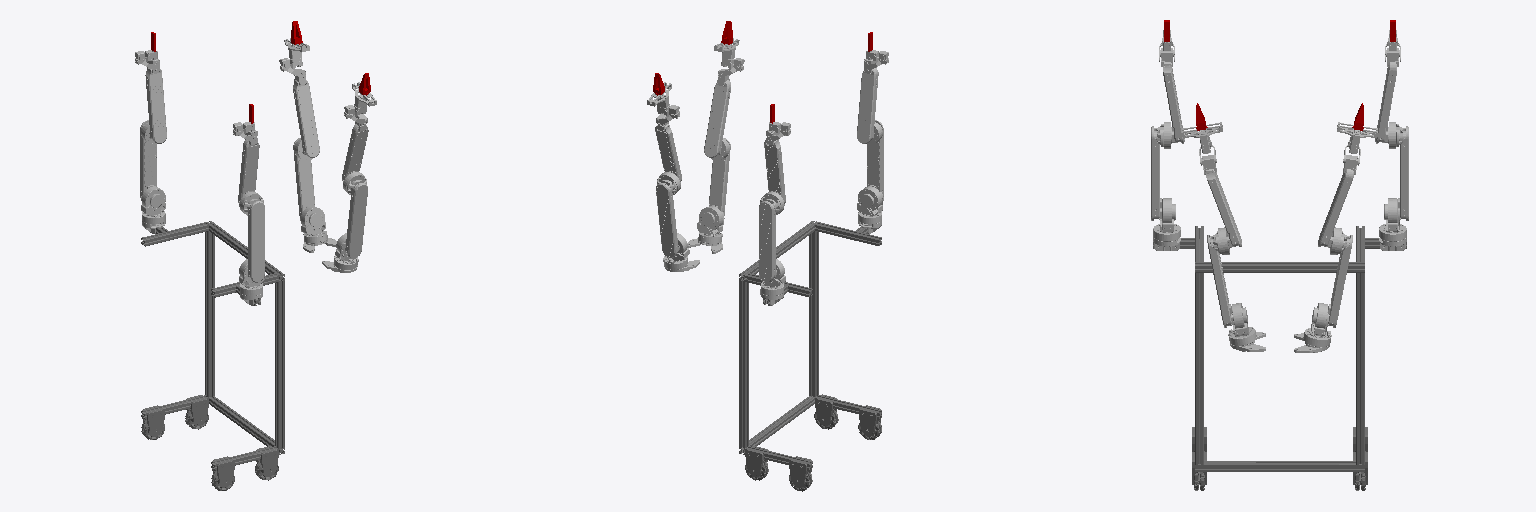
URDF robot description (anubis):
<?xml version="1.0" ?>
<!-- =================================================================================== -->
<!-- |    This document was autogenerated by xacro from pal.urdf.xacro                 | -->
<!-- |    EDITING THIS FILE BY HAND IS NOT RECOMMENDED                                 | -->
<!-- =================================================================================== -->
<robot name="anubis">

  <link name="base_footprint"/>

  <joint name="base_joint" type="fixed">
    <parent link="base_footprint"/>
    <child link="base_link"/>
    <origin xyz="0.0 0.0 0.00" rpy="0 0 0"/>
  </joint>

  <link name="base_link">
    <visual>
      <origin xyz="0 0 0" rpy="0 0 0"/>
      <geometry>
        <mesh filename="package://anubis/meshes/anubis_base.stl"/>
      </geometry>
      <material name="">
        <color rgba="0.75294 0.75294 0.75294 1"/>
      </material>    </visual>
  </link>

  <joint name="back_joint" type="fixed">
    <parent link="base_footprint"/>
    <child link="back_link"/>
    <origin xyz="0.0 0.0 0.00" rpy="0 0 0"/>
  </joint>

  <link name="back_link">
    <visual>
      <origin xyz="-0.50 0 0.11" rpy="0 0 -1.57"/>
      <geometry>
        <mesh filename="package://anubis/meshes/anubis_master.stl"/>
      </geometry>
      <material name="">
        <color rgba="0.5 0.5 0.5 1"/>
      </material>    </visual>
  </link>

<!--- ARM1, RIGHT SLAVE-->
   <joint name="arm1_base_joint" type="fixed">
    <parent link="base_link"/>
    <child link="arm1_base_link"/>
    <origin xyz="0 0 0" rpy="0 0 0"/>
    <!-- <origin xyz="-0.095 0  0.579" rpy="0 0 0"/> -->
    <!-- <origin xyz="-0.095 -0.135470  0.623356" rpy="0.174533 0 0"/> -->
  </joint>

  <link name="arm1_base_link">
    <visual>
      <origin rpy="0 0 0" xyz="0 0 0"/>
      <geometry>
        <mesh filename="package://anubis/meshes/arm_base_link.stl"/>
      </geometry>
      <material name="">
        <color rgba="0.75294 0.75294 0.75294 1"/>
      </material>
    </visual>
  </link>
  <joint name="arm1_base_link_joint" type="revolute">
    <parent link="arm1_base_link"/>
    <child link="link11"/>
    <origin xyz="-0.095 -0.135470  0.82335578" rpy="0.174533 0 0"/>
    <axis xyz="0 0 1"/>
    <limit effort="39" lower="-2.41" upper="2.41" velocity="1.3963"/>
  </joint>
  <link name="link11">
    <visual>
      <origin rpy="0 0 0" xyz="0 0 0"/>
      <geometry>
        <mesh filename="package://anubis/meshes/link1.stl"/>
      </geometry>
      <material name="">
        <color rgba="0.75294 0.75294 0.75294 1"/>
      </material>
    </visual>
  </link>
  <joint name="link11_joint" type="revolute">
    <parent link="link11"/>
    <child link="link12"/>
    <origin rpy="0 0 0" xyz="0 0 0.062"/>
    <axis xyz="0 1 0"/>
    <limit effort="39" lower="-2.41" upper="2.41" velocity="1.3963"/>
  </joint>
  <link name="link12">
    <visual>
      <origin rpy="0 0 0" xyz="0 0 -0.062"/>
      <geometry>
        <mesh filename="package://anubis/meshes/link2.stl"/>
      </geometry>
      <material name="">
        <color rgba="0.75294 0.75294 0.75294 1"/>
      </material>
    </visual>  "arm1_base_link_joint",
  "link11_joint",
  "link12_joint",
  "link13_joint",
  "link14_joint",
  "link15_joint",

  </link>
  <joint name="link12_joint" type="revolute">
    <parent link="link12"/>
    <child link="link13"/>
    <origin rpy="0 0 0" xyz="0 0 0.3"/>
    <axis xyz="0 1 0"/>
    <limit effort="39" lower="-2.41" upper="2.41" velocity="1.3963"/>
  </joint>
  <link name="link13">
    <visual>
      <origin rpy="0 0 0" xyz="0 0 -0.362"/>
      <geometry>
        <mesh filename="package://anubis/meshes/link3.stl"/>
      </geometry>
      <material name="">
        <color rgba="0.75294 0.75294 0.75294 1"/>
      </material>
    </visual>
  </link>
  <joint name="link13_joint" type="revolute">
    <parent link="link13"/>
    <child link="link14"/>
    <origin rpy="0 0 0" xyz="0 0 0.32"/>
    <axis xyz="0 1 0"/>
    <limit effort="39" lower="-2.41" upper="2.41" velocity="1.3963"/>
  </joint>
  <link name="link14">
    <visual>
      <origin rpy="0 0 0" xyz="0 0 -0.662"/>
      <geometry>
        <mesh filename="package://anubis/meshes/link4.stl"/>
      </geometry>
      <material name="">
        <color rgba="0.75294 0.75294 0.75294 1"/>
      </material>
    </visual>
  </link>
  <joint name="link14_joint" type="revolute">
    <parent link="link14"/>
    <child link="link15"/>
    <origin rpy="0 0 0" xyz="0 0 0.04"/>
    <axis xyz="-1 0 0"/>
    <limit effort="39" lower="-2.41" upper="2.41" velocity="1.3963"/>
  </joint>
  <link name="link15">
    <visual>
      <origin rpy="0 0 0" xyz="0 0 -0.702"/>
      <geometry>
        <mesh filename="package://anubis/meshes/link5.stl"/>
      </geometry>
      <material name="">
        <color rgba="0.75294 0.75294 0.75294 1"/>
      </material>
    </visual>
  </link>
  <joint name="link15_joint" type="revolute">
    <parent link="link15"/>
    <child link="ee_link1"/>
    <origin rpy="0 0 -1.57" xyz="0 0 0.027"/>
    <axis xyz="0 0 1"/>
    <limit effort="39" lower="-2.41" upper="2.41" velocity="1.3963"/>
  </joint>
  <link name="ee_link1" >
  </link>

  <!--- gripper1-->
  <joint name="gripper_base_joint" type="fixed">
    <parent link="ee_link1"/>
    <child link="gripper_base_link"/>
    <origin rpy="0 0 0" xyz="0 0 0"/>
        <color rgba="0.75294 0.0 0.0 1"/>
  </joint>
  <link name="gripper_base_link" >
    <visual>
      <origin rpy="0 0 0" xyz="0.0 0 0"/>
      <geometry>
        <mesh filename="package://anubis/meshes/gripper/gripper_base_link.stl"/>
      </geometry>
      <material name="">
        <color rgba="0.75294 0.75294 0.75294 1"/>
      </material>
    </visual>
  </link>

  <joint name="gripper1_joint" type="prismatic">
    <parent link="gripper_base_link"/>
    <child link="gripper1L"/>
    <origin rpy="0 0 0" xyz="0 0 0"/>
    <axis xyz="-1 0 0"/>
    <limit velocity="4.8" effort="1" lower="0" upper="0.04" />
  </joint>
  <link name="gripper1L" >
    <visual>
      <origin rpy="0 0 0" xyz="0 0 0"/>
      <geometry>
        <mesh filename="package://anubis/meshes/gripper/fingerL.stl"/>
      </geometry>
      <material name="">
        <color rgba="0.75294 0.0 0.0 1"/>
      </material>
    </visual>
  </link>

  <joint name="gripper1R_joint" type="prismatic">
    <parent link="gripper_base_link"/>
    <child link="gripper1R"/>
    <origin rpy="0 0 0" xyz="0 0 0"/>
    <axis xyz="1 0 0"/>
    <limit velocity="4.8" effort="1" lower="0" upper="0.04" />
    <mimic joint="gripper1_joint" multiplier="1" offset="0" />
  </joint>
  <link name="gripper1R" >
    <visual>
      <origin rpy="0 0 0" xyz="0 0 0"/>
      <geometry>
        <mesh filename="package://anubis/meshes/gripper/fingerR.stl"/>
      </geometry>
      <material name="">
        <color rgba="0.75294 0.0 0.0 1"/>
      </material>
    </visual>
  </link>


<!--- ARM2, LEFT SLAVE-->
   <joint name="arm2_base_joint" type="fixed">
    <parent link="base_link"/>
    <child link="arm2_base_link"/>
    <!-- <origin xyz="-0.095 0.135470  0.623356" rpy="0.174533 0 3.141592"/> -->
    <!-- <origin xyz="-0.095 0.135470  0.623356" rpy="-0.174533 0 0"/> -->
  </joint>


  <link name="arm2_base_link">
    <visual>
    <origin rpy="0 0 3.14159" xyz="-0.19 0 0"/>
      <geometry>
        <mesh filename="package://anubis/meshes/arm_base_link.stl"/>
      </geometry>
      <material name="">
        <color rgba="0.75294 0.75294 0.75294 1"/>
      </material>
    </visual>
  </link>
  <joint name="arm2_base_link_joint" type="revolute">
    <parent link="arm2_base_link"/>
    <child link="link21"/>
    <origin xyz="-0.095 0.135470  0.82335578" rpy="0.174533 0 3.14159"/>
    <axis xyz="0 0 1"/>
    <limit effort="39" lower="-2.41" upper="2.41" velocity="1.3963"/>
  </joint>
  <link name="link21">
    <visual>
      <origin rpy="0 0 0" xyz="0 0 0"/>
      <geometry>
        <mesh filename="package://anubis/meshes/link1.stl"/>
      </geometry>
      <material name="">
        <color rgba="0.75294 0.75294 0.75294 1"/>
      </material>
    </visual>
  </link>
  <joint name="link21_joint" type="revolute">
    <parent link="link21"/>
    <child link="link22"/>
    <origin rpy="0 0 0" xyz="0 0 0.062"/>
    <axis xyz="0 -1 0"/>
    <limit effort="39" lower="-2.41" upper="2.41" velocity="1.3963"/>
  </joint>
  <link name="link22">
    <visual>
      <origin rpy="0 0 0" xyz="0 0 -0.062"/>
      <geometry>
        <mesh filename="package://anubis/meshes/link2.stl"/>
      </geometry>
      <material name="">
        <color rgba="0.75294 0.75294 0.75294 1"/>
      </material>
    </visual>
  </link>
  <joint name="link22_joint" type="revolute">
    <parent link="link22"/>
    <child link="link23"/>
    <origin rpy="0 0 0" xyz="0 0 0.3"/>
    <axis xyz="0 -1 0"/>
    <limit effort="39" lower="-2.41" upper="2.41" velocity="1.3963"/>
  </joint>
  <link name="link23">
    <visual>
      <origin rpy="0 0 0" xyz="0 0 -0.362"/>
      <geometry>
        <mesh filename="package://anubis/meshes/link3.stl"/>
      </geometry>
      <material name="">
        <color rgba="0.75294 0.75294 0.75294 1"/>
      </material>
    </visual>
  </link>
  <joint name="link23_joint" type="revolute">
    <parent link="link23"/>
    <child link="link24"/>
    <origin rpy="0 0 3.14159" xyz="0 0 0.32"/>
    <axis xyz="0 1 0"/>
    <limit effort="39" lower="-2.41" upper="2.41" velocity="1.3963"/>
  </joint>
  <link name="link24">
    <visual>
      <origin rpy="0 0 0" xyz="0 0 -0.662"/>
      <geometry>
        <mesh filename="package://anubis/meshes/link4.stl"/>
      </geometry>
      <material name="">
        <color rgba="0.75294 0.75294 0.75294 1"/>
      </material>
    </visual>
  </link>
  <joint name="link24_joint" type="revolute">
    <parent link="link24"/>
    <child link="link25"/>
    <origin rpy="0 0 0" xyz="0 0 0.04"/>
    <axis xyz="-1 0 0"/>
    <limit effort="39" lower="-2.41" upper="2.41" velocity="1.3963"/>
  </joint>
  <link name="link25">
    <visual>
      <origin rpy="0 0 0" xyz="0 0 -0.702"/>
      <geometry>
        <mesh filename="package://anubis/meshes/link5.stl"/>
      </geometry>
      <material name="">
        <color rgba="0.75294 0.75294 0.75294 1"/>
      </material>
    </visual>
  </link>
  <joint name="link25_joint" type="revolute">
    <parent link="link25"/>
    <child link="ee_link2"/>
    <origin rpy="0 0 -1.57" xyz="0 0 0.027"/>
    <axis xyz="0 0 1"/>
    <limit effort="39" lower="-2.41" upper="2.41" velocity="1.3963"/>
  </joint>
  <link name="ee_link2" >
  </link>

    <!--- gripper2-->
  <joint name="gripper2_base_joint" type="fixed">
    <parent link="ee_link2"/>
    <child link="gripper2_base_link"/>
    <origin rpy="0 0 0" xyz="0 0 0"/>
        <color rgba="0.75294 0.0 0.0 1"/>
  </joint>
  <link name="gripper2_base_link" >
    <visual>
      <origin rpy="0 0 0" xyz="0.0 0 0"/>
      <geometry>
        <mesh filename="package://anubis/meshes/gripper/gripper_base_link.stl"/>
      </geometry>
      <material name="">
        <color rgba="0.75294 0.75294 0.75294 1"/>
      </material>
    </visual>
  </link>

  <joint name="gripper2_joint" type="prismatic">
    <parent link="gripper2_base_link"/>
    <child link="gripper2L"/>
    <origin rpy="0 0 0" xyz="0 0 0"/>
    <axis xyz="-1 0 0"/>
    <limit velocity="4.8" effort="1" lower="0" upper="0.04" />
  </joint>
  <link name="gripper2L" >
    <visual>
      <origin rpy="0 0 0" xyz="0 0 0"/>
      <geometry>
        <mesh filename="package://anubis/meshes/gripper/fingerL.stl"/>
      </geometry>
      <material name="">
        <color rgba="0.75294 0.0 0.0 1"/>
      </material>
    </visual>
  </link>

  <joint name="gripper2R_joint" type="prismatic">
    <parent link="gripper2_base_link"/>
    <child link="gripper2R"/>
    <origin rpy="0 0 0" xyz="0 0 0"/>
    <axis xyz="1 0 0"/>
    <limit velocity="4.8" effort="1" lower="0" upper="0.04" />
    <mimic joint="gripper2_joint" multiplier="1" offset="0" />
  </joint>
  <link name="gripper2R" >
    <visual>
      <origin rpy="0 0 0" xyz="0 0 0"/>
      <geometry>
        <mesh filename="package://anubis/meshes/gripper/fingerR.stl"/>
      </geometry>
      <material name="">
        <color rgba="0.75294 0.0 0.0 1"/>
      </material>
    </visual>
  </link>

<!--- ARM3, RIGHT MASTER-->
   <joint name="arm3_base_joint" type="fixed">
    <parent link="base_link"/>
    <child link="arm3_base_link"/>
    <origin xyz="-0.7 -0.40 0.95" rpy="0 0 0"/>
  </joint>

  <link name="arm3_base_link">
    <visual>
      <origin rpy="0 0 0" xyz="0 0 0"/>
      <geometry>
        <mesh filename="package://anubis/meshes/master_arm_base_link.stl"/>
      </geometry>
      <material name="">
        <color rgba="0.75294 0.75294 0.75294 1"/>
      </material>
    </visual>
  </link>
  <joint name="arm3_base_link_joint" type="revolute">
    <parent link="arm3_base_link"/>
    <child link="link31"/>
    <origin rpy="0 0 0" xyz="0 0 0"/>
    <axis xyz="0 0 1"/>
    <limit effort="39" lower="-2.41" upper="2.41" velocity="1.3963"/>
  </joint>
  <link name="link31">
    <visual>
      <origin rpy="0 0 0" xyz="0 0 0"/>
      <geometry>
        <mesh filename="package://anubis/meshes/link1.stl"/>
      </geometry>
      <material name="">
        <color rgba="0.75294 0.75294 0.75294 1"/>
      </material>
    </visual>
  </link>
  <joint name="link31_joint" type="revolute">
    <parent link="link31"/>
    <child link="link32"/>
    <origin rpy="0 0 0" xyz="0 0 0.062"/>
    <axis xyz="0 1 0"/>
    <limit effort="39" lower="-2.41" upper="2.41" velocity="1.3963"/>
  </joint>
  <link name="link32">
    <visual>
      <origin rpy="0 0 0" xyz="0 0 -0.062"/>
      <geometry>
        <mesh filename="package://anubis/meshes/link2.stl"/>
      </geometry>
      <material name="">
        <color rgba="0.75294 0.75294 0.75294 1"/>
      </material>
    </visual>  "arm1_base_link_joint",
  "link11_joint",
  "link12_joint",
  "link13_joint",
  "link14_joint",
  "link15_joint",

  </link>
  <joint name="link32_joint" type="revolute">
    <parent link="link32"/>
    <child link="link33"/>
    <origin rpy="0 0 0" xyz="0 0 0.3"/>
    <axis xyz="0 1 0"/>
    <limit effort="39" lower="-2.41" upper="2.41" velocity="1.3963"/>
  </joint>
  <link name="link33">
    <visual>
      <origin rpy="0 0 0" xyz="0 0 -0.362"/>
      <geometry>
        <mesh filename="package://anubis/meshes/link3.stl"/>
      </geometry>
      <material name="">
        <color rgba="0.75294 0.75294 0.75294 1"/>
      </material>
    </visual>
  </link>
  <joint name="link33_joint" type="revolute">
    <parent link="link33"/>
    <child link="link34"/>
    <origin rpy="0 0 0" xyz="0 0 0.3"/>
    <axis xyz="0 1 0"/>
    <limit effort="39" lower="-2.41" upper="2.41" velocity="1.3963"/>
  </joint>
  <link name="link34">
    <visual>
      <origin rpy="0 0 0" xyz="0 0 -0.662"/>
      <geometry>
        <mesh filename="package://anubis/meshes/link4.stl"/>
      </geometry>
      <material name="">
        <color rgba="0.75294 0.75294 0.75294 1"/>
      </material>
    </visual>
  </link>

  <joint name="link34_joint" type="revolute">
    <parent link="link34"/>
    <child link="link35"/>
    <origin rpy="0 0 0" xyz="0 0 0.04"/>
    <axis xyz="-1 0 0"/>
    <limit effort="39" lower="-2.41" upper="2.41" velocity="1.3963"/>
  </joint>
    <link name="link35">
    <visual>
      <origin rpy="0 0 0" xyz="0 0 -0.702"/>
      <geometry>
        <mesh filename="package://anubis/meshes/link5.stl"/>
      </geometry>
      <material name="">
        <color rgba="0.75294 0.75294 0.75294 1"/>
      </material>
    </visual>
  </link>
  <joint name="link35_joint" type="revolute">
    <parent link="link35"/>
    <child link="ee_link3"/>
    <origin rpy="0 0 -1.57" xyz="0 0 0.027"/>
    <axis xyz="0 0 1"/>
    <limit effort="39" lower="-2.41" upper="2.41" velocity="1.3963"/>
  </joint>
  <link name="ee_link3" >
  </link>

    <!--- gripper3-->
  <joint name="gripper3_joint" type="prismatic">
    <parent link="ee_link3"/>
    <child link="gripper3L"/>
    <origin rpy="0 0 0" xyz="0 0 0"/>
    <axis xyz="-1 0 0"/>
    <limit velocity="4.8" effort="1" lower="0" upper="0.04" />
  </joint>
  <link name="gripper3L" >
    <visual>
      <origin rpy="0 0 0" xyz="-0.005 0 0.04"/>
      <geometry>
        <box size="0.01 0.01 0.08"/>
      </geometry>
      <material name="">
        <color rgba="0.75294 0.0 0.0 1"/>
      </material>
    </visual>
  </link>

  <joint name="gripper3R_joint" type="prismatic">
    <parent link="ee_link3"/>
    <child link="gripper3R"/>
    <origin rpy="0 0 0" xyz="0 0 0"/>
    <axis xyz="1 0 0"/>
    <limit velocity="4.8" effort="1" lower="0" upper="0.04" />
    <mimic joint="gripper3_joint" multiplier="1" offset="0" />
  </joint>
  <link name="gripper3R" >
    <visual>
      <origin rpy="0 0 0" xyz="0.005 0 0.04"/>
      <geometry>
        <box size="0.01 0.01 0.08"/>
      </geometry>
      <material name="">
        <color rgba="0.75294 0.0 0.0 1"/>
      </material>
    </visual>
  </link>

<!--- ARM4, LEFT MASTER-->
   <joint name="arm4_base_joint" type="fixed">
    <parent link="base_link"/>
    <child link="arm4_base_link"/>
    <origin xyz="-0.7 0.40 0.95" rpy="0 0 0"/>
  </joint>

  <link name="arm4_base_link">
    <visual>
      <origin rpy="0 0 3.14159" xyz="0 0 0"/>
      <geometry>
        <mesh filename="package://anubis/meshes/master_arm_base_link.stl"/>
      </geometry>
      <material name="">
        <color rgba="0.75294 0.75294 0.75294 1"/>
      </material>
    </visual>
  </link>
  <joint name="arm4_base_link_joint" type="revolute">
    <parent link="arm4_base_link"/>
    <child link="link41"/>
    <origin rpy="0 0 3.14159" xyz="0 0 0"/>
    <axis xyz="0 0 1"/>
    <limit effort="39" lower="-2.41" upper="2.41" velocity="1.3963"/>
  </joint>
  <link name="link41">
    <visual>
      <origin rpy="0 0 0" xyz="0 0 0"/>
      <geometry>
        <mesh filename="package://anubis/meshes/link1.stl"/>
      </geometry>
      <material name="">
        <color rgba="0.75294 0.75294 0.75294 1"/>
      </material>
    </visual>
  </link>
  <joint name="link41_joint" type="revolute">
    <parent link="link41"/>
    <child link="link42"/>
    <origin rpy="0 0 0" xyz="0 0 0.062"/>
    <axis xyz="0 -1 0"/>
    <limit effort="39" lower="-2.41" upper="2.41" velocity="1.3963"/>
  </joint>
  <link name="link42">
    <visual>
      <origin rpy="0 0 0" xyz="0 0 -0.062"/>
      <geometry>
        <mesh filename="package://anubis/meshes/link2.stl"/>
      </geometry>
      <material name="">
        <color rgba="0.75294 0.75294 0.75294 1"/>
      </material>
    </visual>
  </link>
  <joint name="link42_joint" type="revolute">
    <parent link="link42"/>
    <child link="link43"/>
    <origin rpy="0 0 0" xyz="0 0 0.3"/>
    <axis xyz="0 -1 0"/>
    <limit effort="39" lower="-2.41" upper="2.41" velocity="1.3963"/>
  </joint>
  <link name="link43">
    <visual>
      <origin rpy="0 0 0" xyz="0 0 -0.362"/>
      <geometry>
        <mesh filename="package://anubis/meshes/link3.stl"/>
      </geometry>
      <material name="">
        <color rgba="0.75294 0.75294 0.75294 1"/>
      </material>
    </visual>
  </link>
  <joint name="link43_joint" type="revolute">
    <parent link="link43"/>
    <child link="link44"/>
    <origin rpy="0 0 3.14159" xyz="0 0 0.3"/>
    <axis xyz="0 1 0"/>
    <limit effort="39" lower="-2.41" upper="2.41" velocity="1.3963"/>
  </joint>
  <link name="link44">
    <visual>
      <origin rpy="0 0 0" xyz="0 0 -0.662"/>
      <geometry>
        <mesh filename="package://anubis/meshes/link4.stl"/>
      </geometry>
      <material name="">
        <color rgba="0.75294 0.75294 0.75294 1"/>
      </material>
    </visual>
  </link>
  <joint name="link44_joint" type="revolute">
    <parent link="link44"/>
    <child link="link45"/>
    <origin rpy="0 0 0" xyz="0 0 0.04"/>
    <axis xyz="-1 0 0"/>
    <limit effort="39" lower="-2.41" upper="2.41" velocity="1.3963"/>
  </joint>
  <link name="link45">
    <visual>
      <origin rpy="0 0 0" xyz="0 0 -0.702"/>
      <geometry>
        <mesh filename="package://anubis/meshes/link5.stl"/>
      </geometry>
      <material name="">
        <color rgba="0.75294 0.75294 0.75294 1"/>
      </material>
    </visual>
  </link>
  <joint name="link45_joint" type="revolute">
    <parent link="link45"/>
    <child link="ee_link4"/>
    <origin rpy="0 0 -1.57" xyz="0 0 0.027"/>
    <axis xyz="0 0 1"/>
    <limit effort="39" lower="-2.41" upper="2.41" velocity="1.3963"/>
  </joint>
  <link name="ee_link4" >
  </link>

    <!--- gripper4-->
  <joint name="gripper4_joint" type="prismatic">
    <parent link="ee_link4"/>
    <child link="gripper4L"/>
    <origin rpy="0 0 0" xyz="0 0 0"/>
    <axis xyz="-1 0 0"/>
    <limit velocity="4.8" effort="1" lower="0" upper="0.04" />
  </joint>
  <link name="gripper4L" >
    <visual>
      <origin rpy="0 0 0" xyz="-0.005 0 0.04"/>
      <geometry>
        <box size="0.01 0.01 0.08"/>
      </geometry>
      <material name="">
        <color rgba="0.75294 0.0 0.0 1"/>
      </material>
    </visual>
  </link>

  <joint name="gripper4R_joint" type="prismatic">
    <parent link="ee_link4"/>
    <child link="gripper4R"/>
    <origin rpy="0 0 0" xyz="0 0 0"/>
    <axis xyz="1 0 0"/>
    <limit velocity="4.8" effort="1" lower="0" upper="0.04" />
    <mimic joint="gripper4_joint" multiplier="1" offset="0" />
  </joint>
  <link name="gripper4R" >
    <visual>
      <origin rpy="0 0 0" xyz="0.005 0 0.04"/>
      <geometry>
        <box size="0.01 0.01 0.08"/>
      </geometry>
      <material name="">
        <color rgba="0.75294 0.0 0.0 1"/>
      </material>
    </visual>
  </link>

</robot>

--- Facts derived from the render (not from the file) ---
The picture shows the robot from 3 angles, left to right: view 1: azimuth 30°, elevation 25°; view 2: azimuth 150°, elevation 25°; view 3: azimuth 270°, elevation 25°; orthographic projection.
Model anubis with 41 links and 40 joints (24 revolute, 8 prismatic, 8 fixed), rooted at base_footprint, posed every joint at zero.
Visible links, largest first — view 1: back_link, link32, link12, link23, link43, link22, link42, link33, link13, link21, link41; view 2: back_link, link42, link22, link13, link33, link12, link32, link43, link23, link11, link31; view 3: back_link, link12, link22, link32, link42, link13, link23, link33, link43, arm2_base_link, arm4_base_link, arm3_base_link (+1 smaller).
Link boxes in pixels (bbox=[...]): back_link: bbox=[141, 221, 284, 490]; link32: bbox=[239, 192, 264, 282]; link12: bbox=[343, 172, 367, 257]; link23: bbox=[293, 69, 319, 157]; link43: bbox=[145, 59, 166, 143]; link22: bbox=[293, 138, 314, 220]; link42: bbox=[140, 120, 156, 197]; link33: bbox=[238, 130, 259, 203]; link13: bbox=[342, 114, 368, 181]; link21: bbox=[301, 206, 325, 235]; link41: bbox=[141, 186, 165, 215]; back_link: bbox=[739, 221, 881, 491]; link42: bbox=[759, 191, 784, 281]; link22: bbox=[656, 172, 680, 257]; link13: bbox=[704, 69, 730, 157]; link33: bbox=[857, 59, 878, 143]; link12: bbox=[709, 138, 730, 215]; link32: bbox=[867, 120, 883, 196]; link43: bbox=[764, 130, 785, 203]; link23: bbox=[655, 114, 681, 181]; link11: bbox=[697, 206, 724, 235]; link31: bbox=[857, 186, 883, 215]; back_link: bbox=[1153, 226, 1406, 490]; link12: bbox=[1207, 227, 1233, 327]; link22: bbox=[1328, 227, 1352, 327]; link32: bbox=[1151, 122, 1171, 220]; link42: bbox=[1388, 122, 1408, 220]; link13: bbox=[1201, 155, 1241, 247]; link23: bbox=[1318, 155, 1358, 247]; link33: bbox=[1160, 48, 1184, 143]; link43: bbox=[1375, 48, 1399, 143]; arm2_base_link: bbox=[1294, 328, 1331, 352]; arm4_base_link: bbox=[1379, 224, 1406, 250]; arm3_base_link: bbox=[1153, 224, 1180, 250].
Bounding box of the posed robot: 0.801 × 0.914 × 1.77 m (x, y, z).
Meshes: 12 distinct files referenced, 31 mesh visuals loaded (11 binary STL); not drawn: 1 (reference not matched to a file when rendering).
